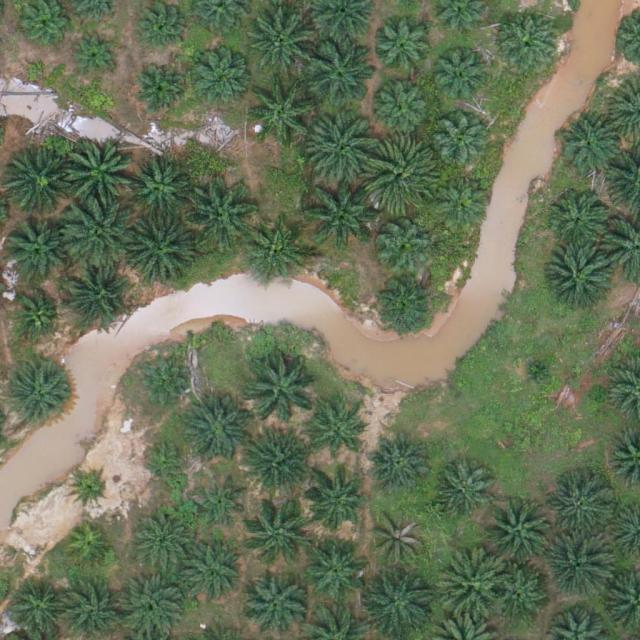Dead: (373, 514, 427, 569)
Healthy: (366, 139, 437, 210), (543, 245, 613, 316), (246, 496, 316, 567), (241, 431, 311, 502), (247, 351, 317, 422), (180, 397, 251, 467), (124, 215, 194, 286), (66, 199, 136, 270), (307, 35, 377, 106), (311, 115, 381, 186), (66, 139, 136, 210), (544, 532, 614, 602), (484, 497, 554, 567), (436, 549, 506, 619), (364, 569, 434, 639), (304, 179, 374, 249), (186, 179, 256, 249), (249, 77, 319, 147), (249, 9, 319, 79), (3, 150, 73, 220), (547, 189, 610, 252), (304, 473, 367, 536), (304, 537, 367, 600), (132, 510, 195, 573), (180, 543, 243, 606), (429, 48, 492, 111), (559, 114, 622, 177), (549, 479, 612, 541), (432, 460, 494, 523), (367, 432, 430, 494), (243, 574, 305, 637), (246, 224, 308, 287), (4, 218, 66, 281), (375, 16, 438, 78), (497, 9, 559, 72), (189, 47, 252, 109), (128, 156, 190, 219), (373, 274, 435, 336), (65, 265, 127, 327), (9, 365, 71, 427), (373, 76, 435, 138), (492, 568, 547, 623), (376, 216, 431, 271), (195, 477, 250, 532), (136, 357, 191, 412), (436, 175, 491, 230), (134, 65, 189, 120), (312, 408, 366, 463), (435, 118, 489, 173)
Small: (72, 29, 119, 77), (13, 291, 60, 338), (143, 439, 190, 486), (71, 470, 110, 510), (521, 355, 552, 387)
Yellow: (66, 525, 113, 572)
